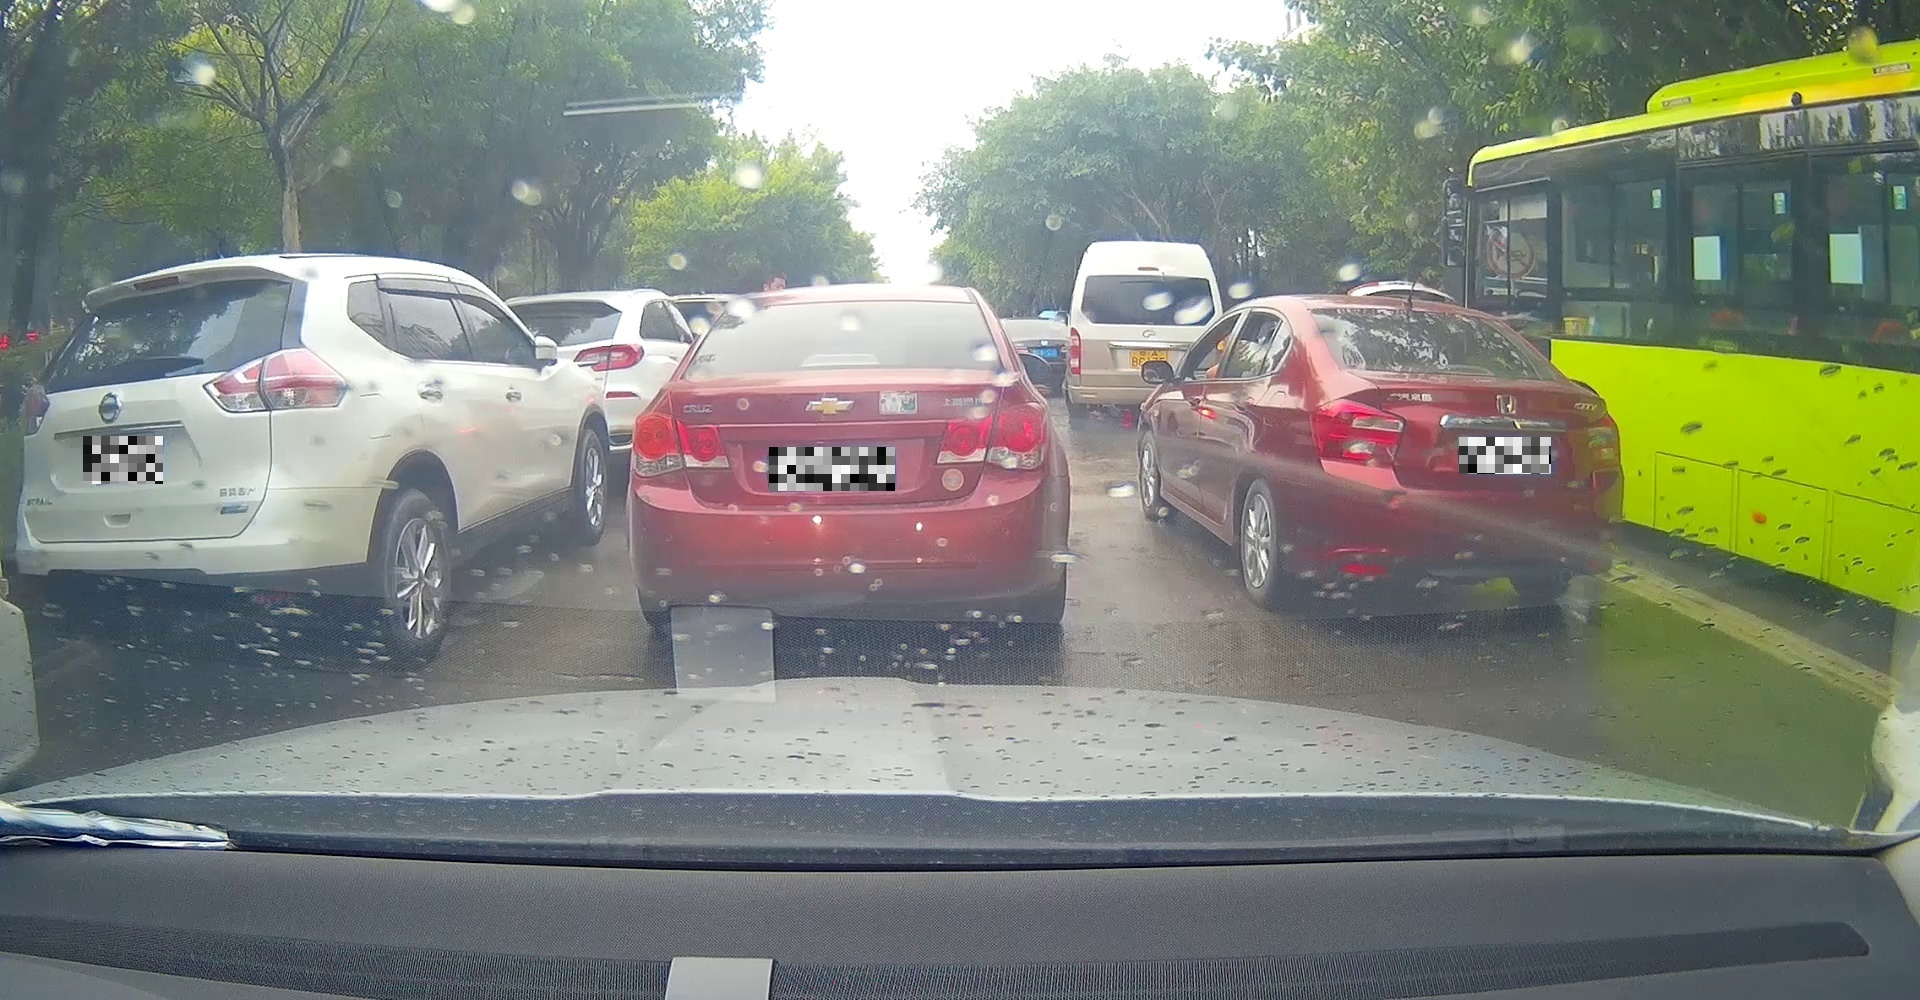L_light: (629, 412, 729, 478), (1310, 398, 1404, 468), (20, 385, 50, 437)
R_light: (202, 346, 349, 414), (935, 402, 1049, 470), (1567, 426, 1619, 484)
T_light: (803, 353, 877, 365), (132, 275, 182, 293), (1429, 364, 1492, 376)
day-no: (626, 284, 1070, 633), (14, 254, 353, 673), (1299, 294, 1625, 610)
plate_1: (83, 437, 163, 484)
plate_2: (770, 447, 895, 491)
plate_3: (1459, 437, 1550, 475)
